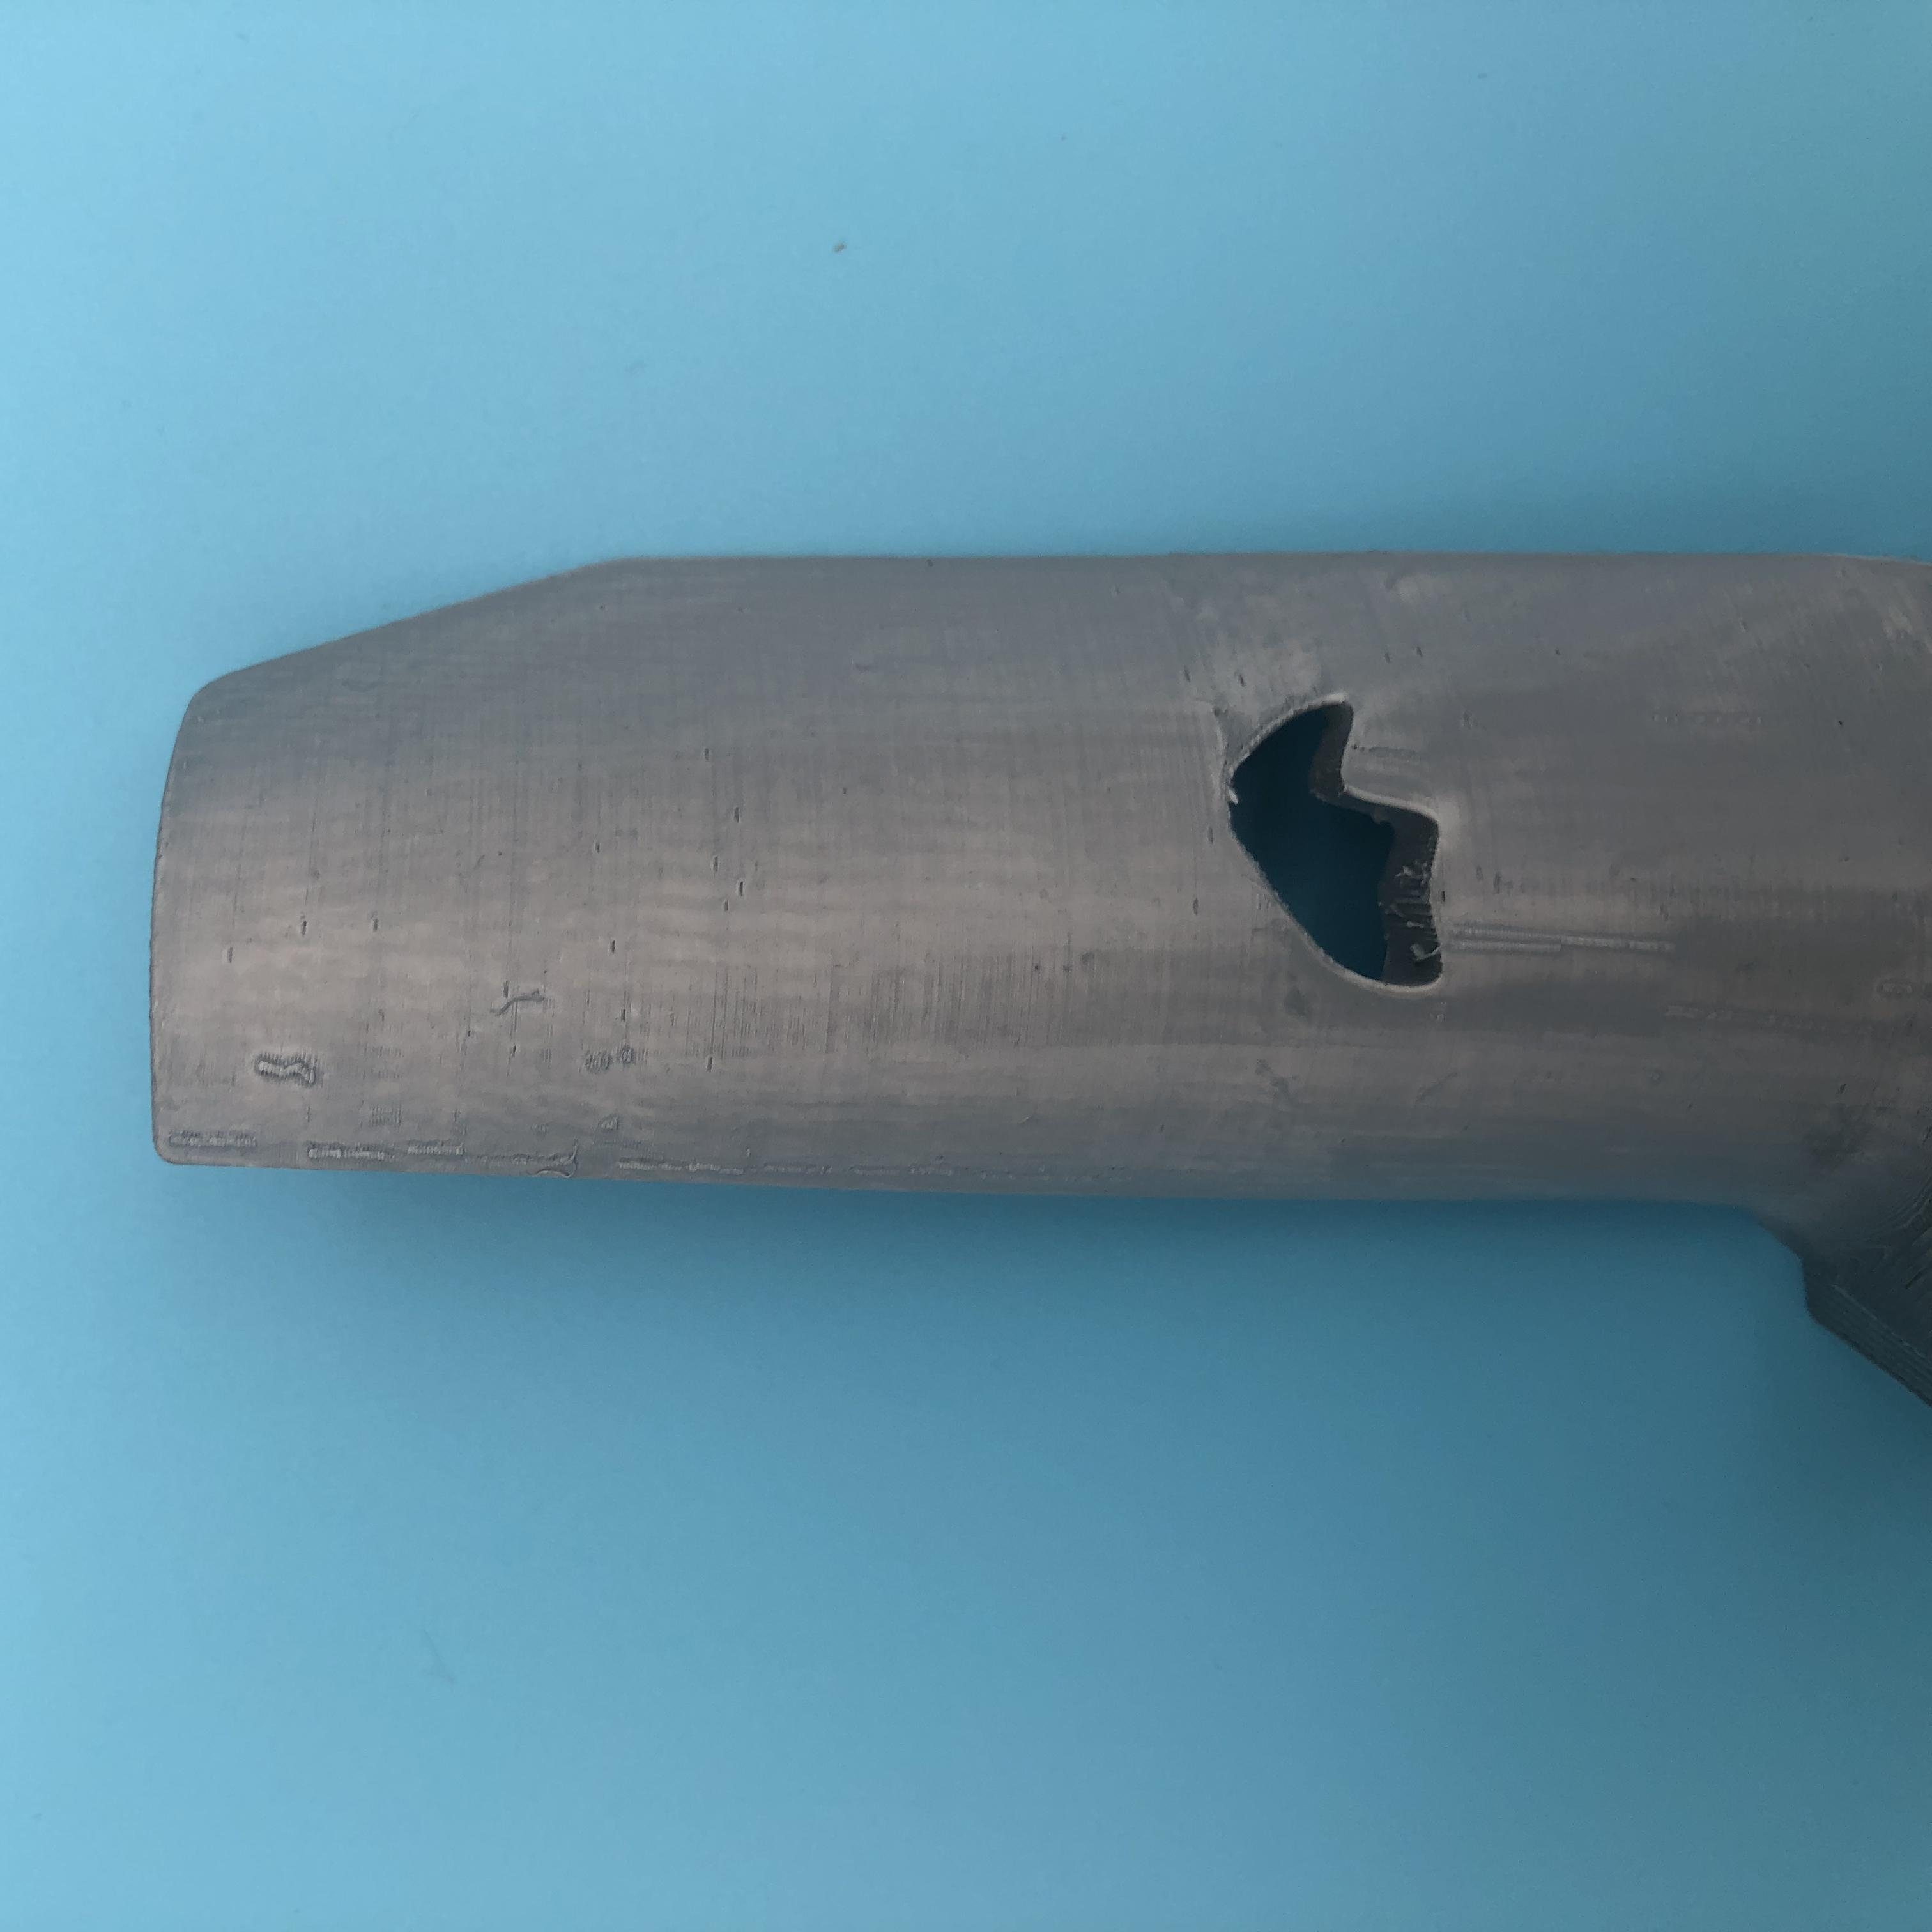breakdown: (1205, 686, 1468, 1001)
